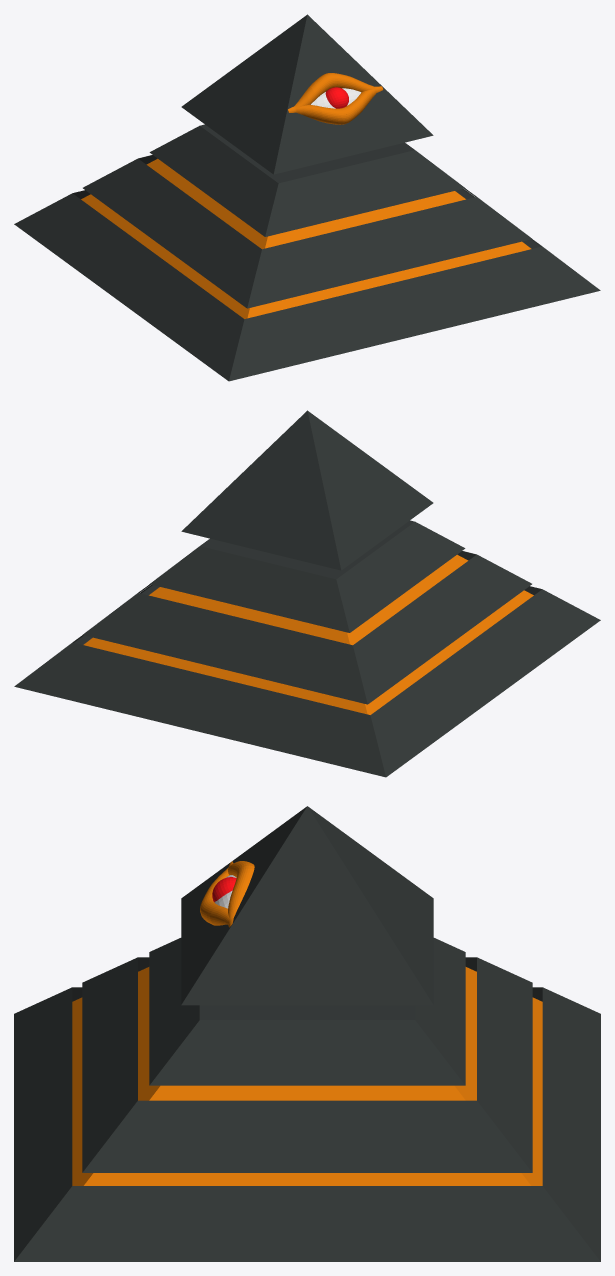
File: inimigoPiramide.fbx
3 renders of one model, top to bottom at view 1: azimuth 30°, elevation 25°; view 2: azimuth 150°, elevation 25°; view 3: azimuth 270°, elevation 25°, orthographic. The views are drawn at different scales.
Parts seen in each view (by area): view 1: Cube.005, Cube.006; view 2: Cube.005, Cube.006; view 3: Cube.005, Cube.006.
Part boxes in pixels (x1,y1,x2,y2): Cube.005: [14, 124, 600, 381]; Cube.006: [181, 14, 433, 174]; Cube.005: [14, 520, 600, 777]; Cube.006: [181, 410, 433, 570]; Cube.005: [14, 938, 600, 1261]; Cube.006: [181, 806, 433, 1005].
Size of the model in its own units: 3785 by 2361 by 3785.
